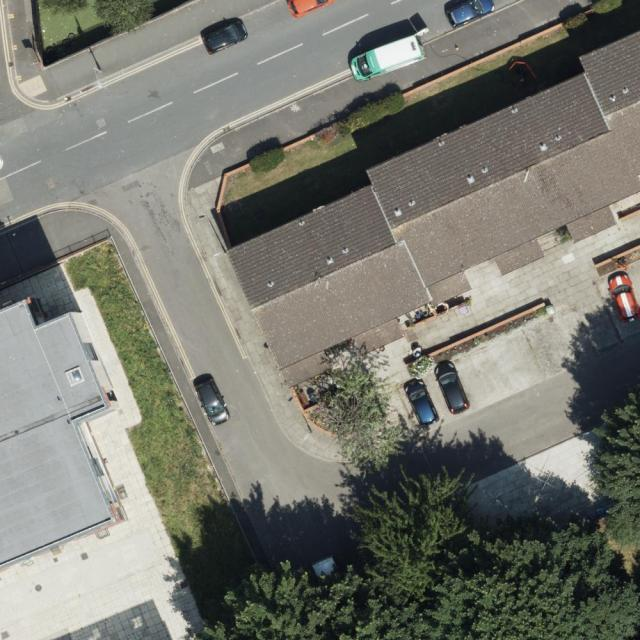roof: (230, 29, 640, 394), (0, 298, 116, 571)
skylight: (62, 365, 86, 386)
